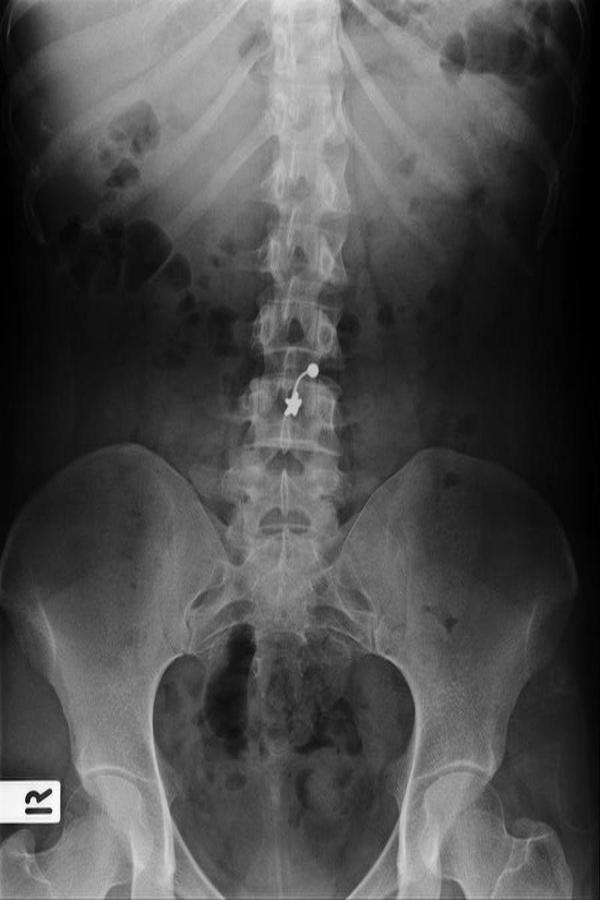lumbar scoliosis: (225, 7, 350, 608)
